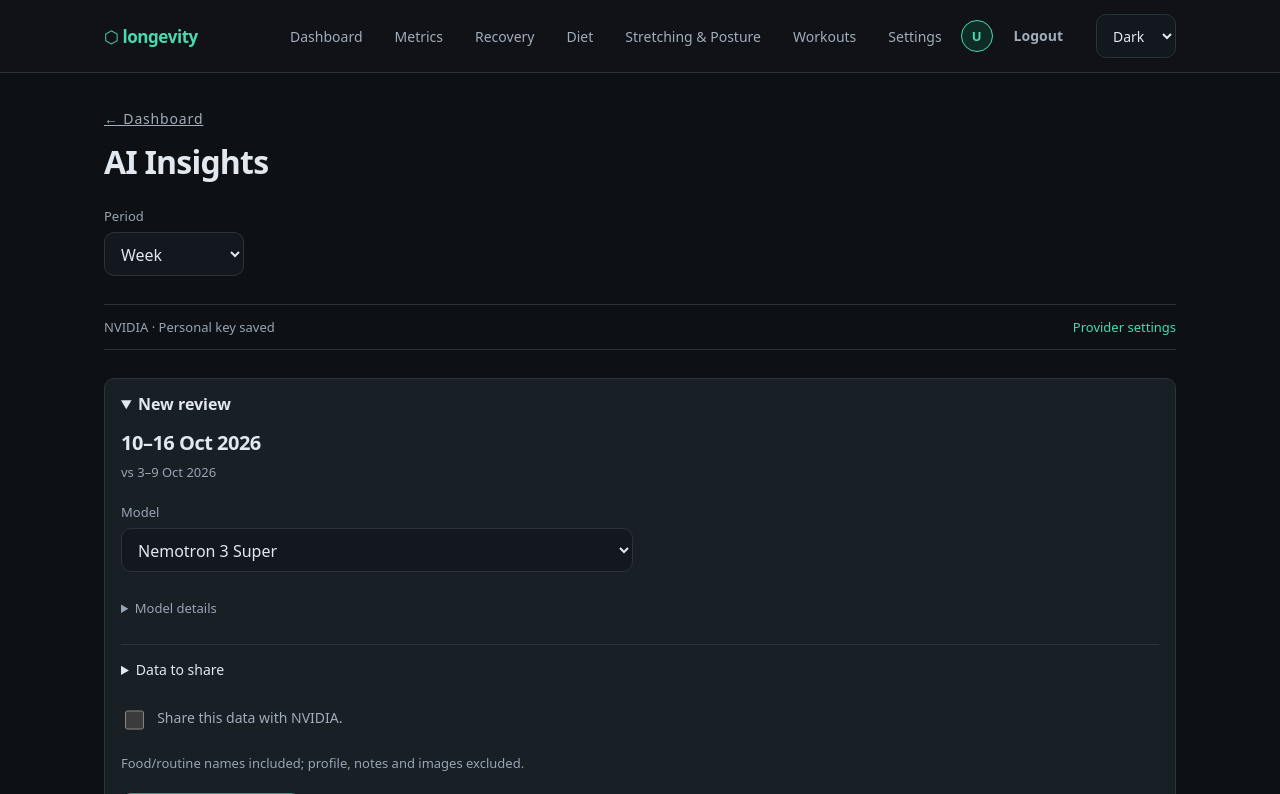
Weekly AI insights › lets the user choose a model and generates with that selection
Click the checkbox.
click(135, 720)  # box [125,710,144,730]
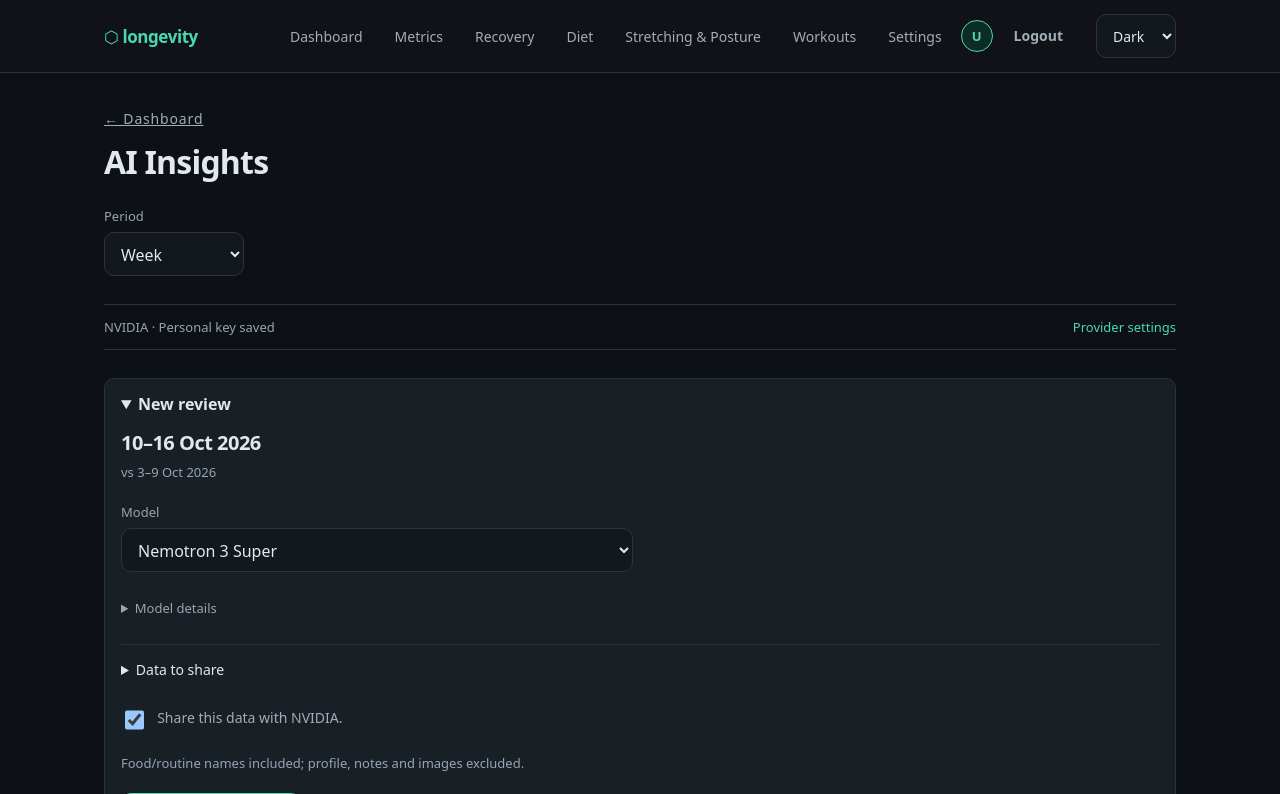
Select "DeepSeek V4.1 Flash" in the dropdown named "Review model" at coordinates (377, 550), box [121,528,633,572]
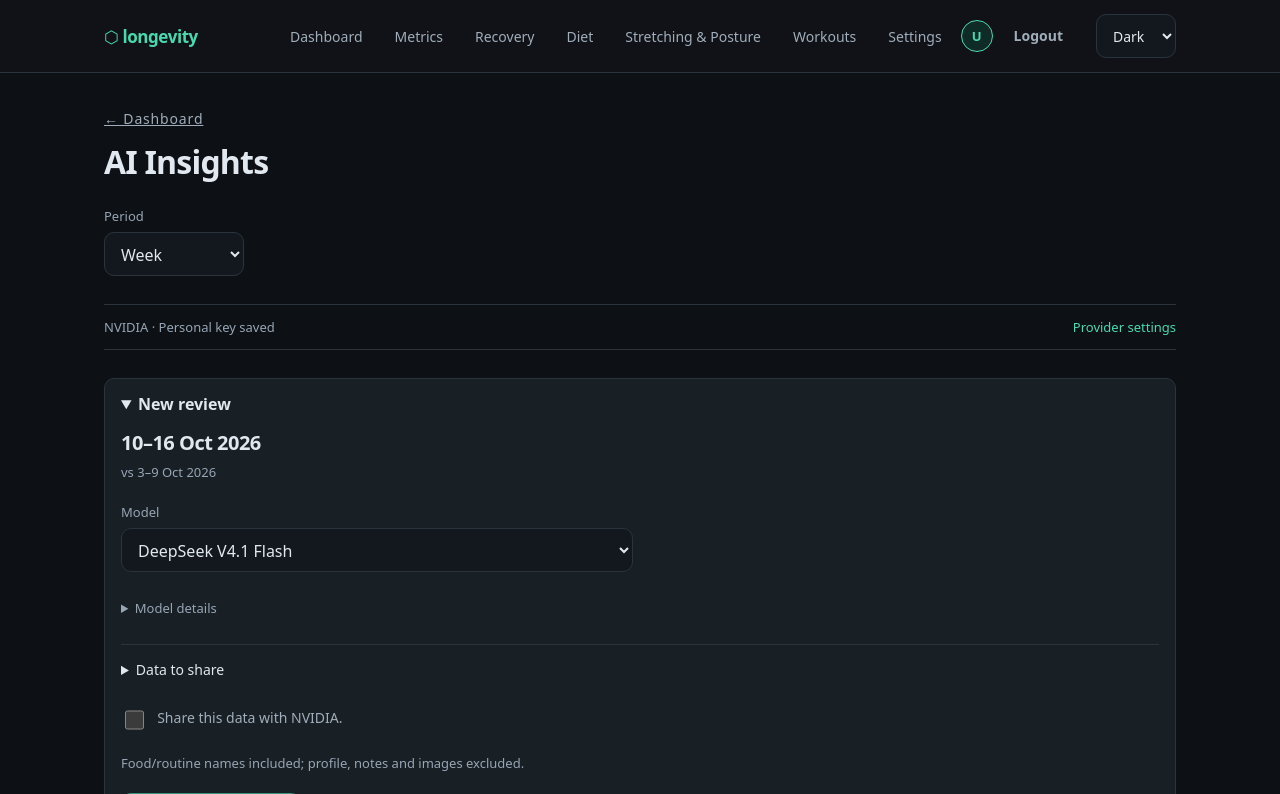
Result: the checkbox is not checked
Click the checkbox.
click(135, 720)  # box [125,710,144,730]
(page scrolled)
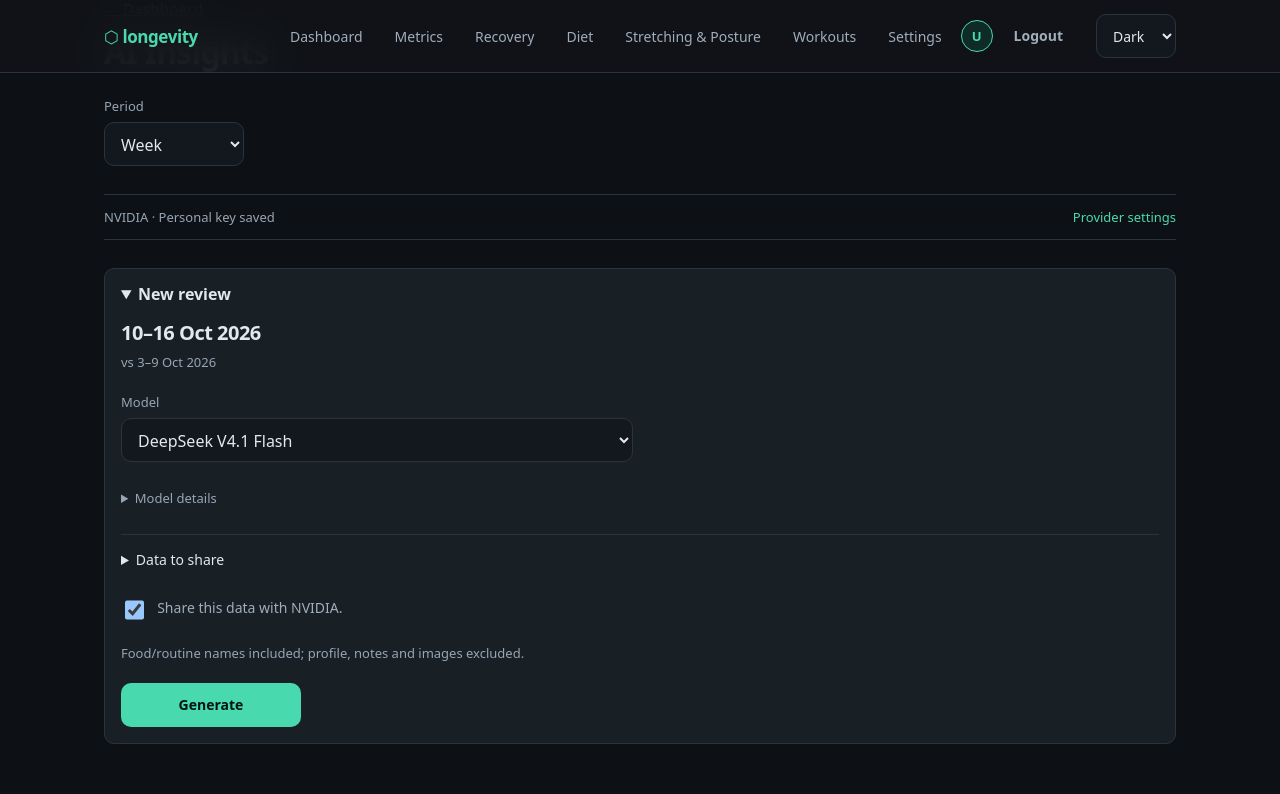
Click the button with aria-label "Generate suggestions".
click(211, 705)  # box [121,683,301,727]
(page scrolled)
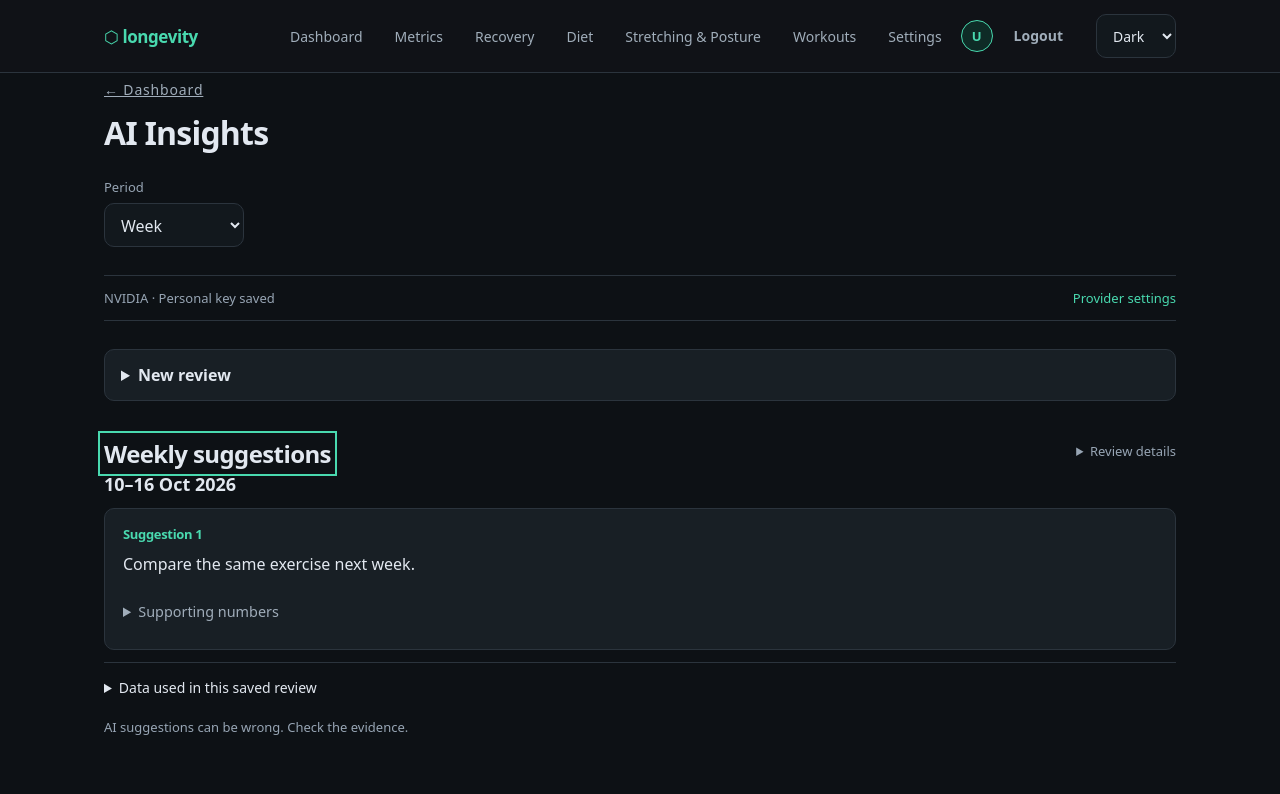
Result: the text "Compare the same exercise next week." is shown at [123,553,415,575]
